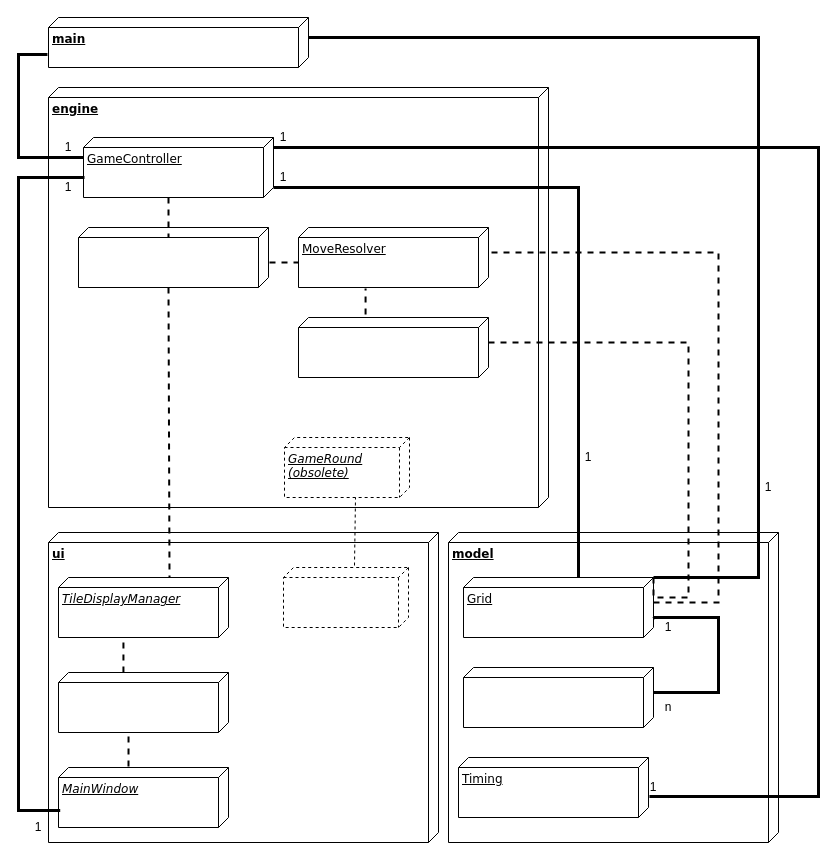
This 838x860 diagram has some shape labels left out. Each missing label, with the centre of its shape:
"ExpositionHandler" goes at point (393, 347).
"GridDisplayManager" goes at point (143, 702).
"Move" goes at point (173, 257).
"TextUI (obsolete)" goes at point (345, 597).
"Tile" goes at point (558, 697).
